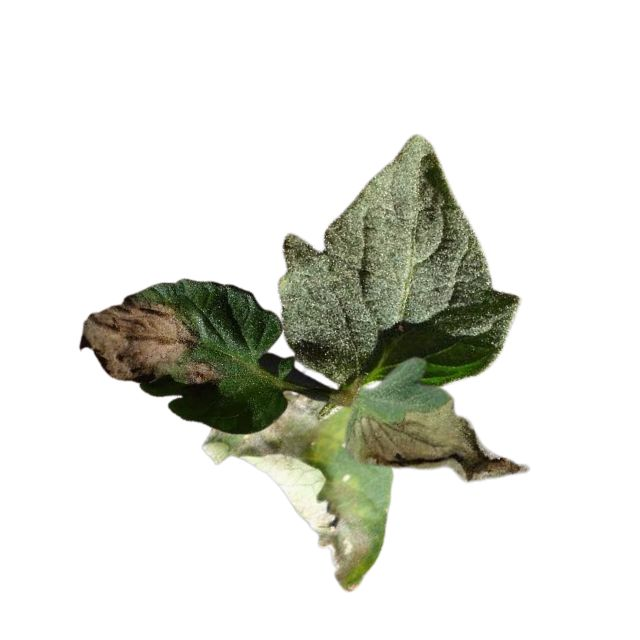Late_blight: (206, 394, 376, 588), (346, 396, 533, 484), (78, 298, 222, 383)
